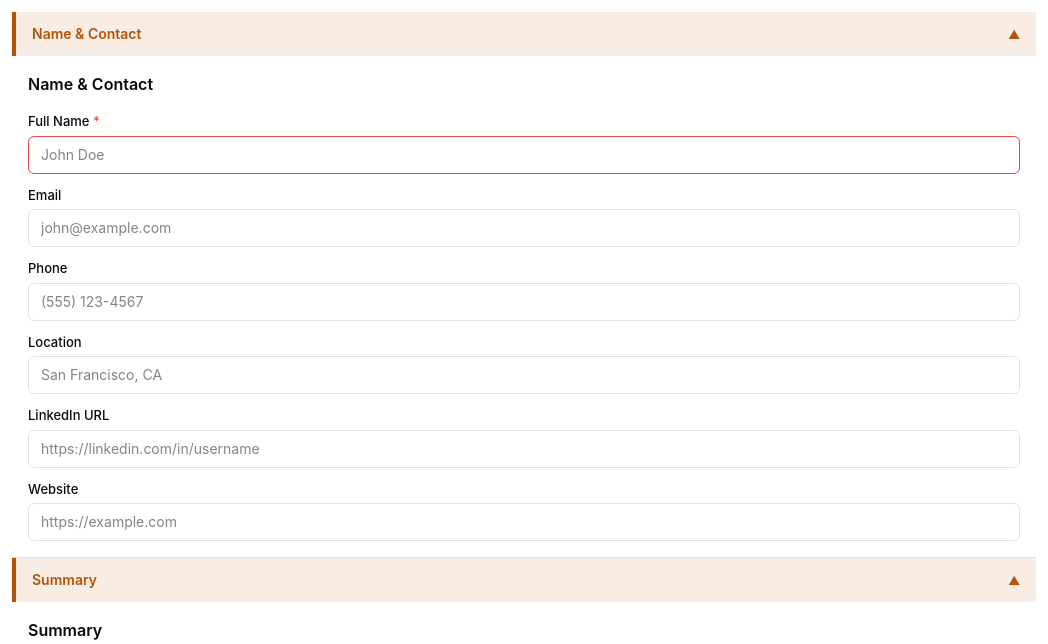
it: SectionEditor › collapse/expand › expands a collapsed section when header is clicked again
# Collapse first
Click the button "Name & Contact ▼" at (87, 34), box [12,12,1036,56]
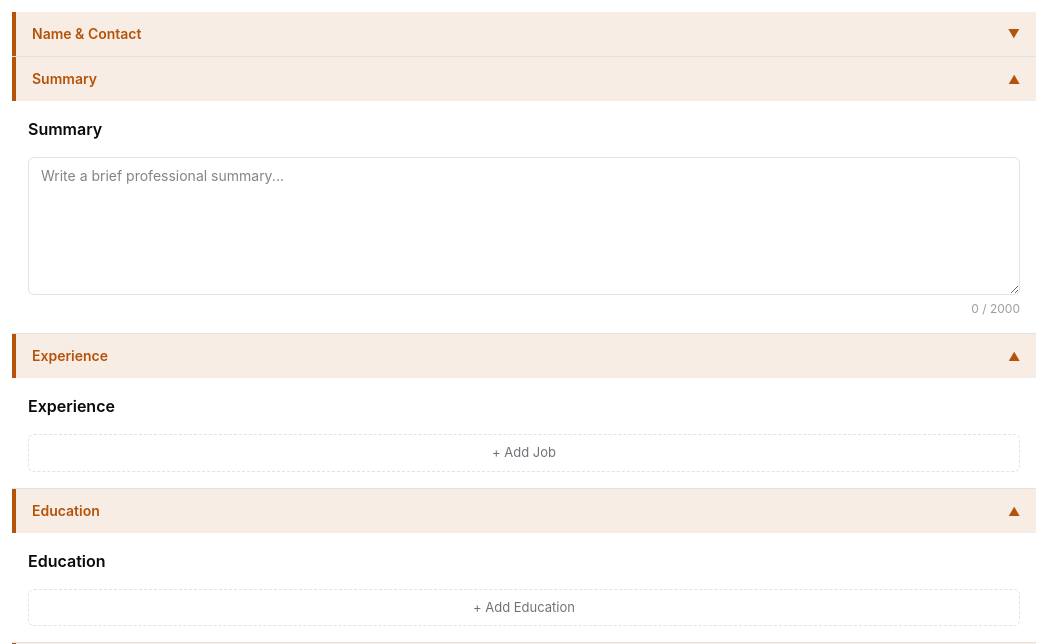
Expected: the button "Name & Contact ▼" is collapsed
# Expand again
Click the button "Name & Contact ▼" at (87, 34), box [12,12,1036,56]
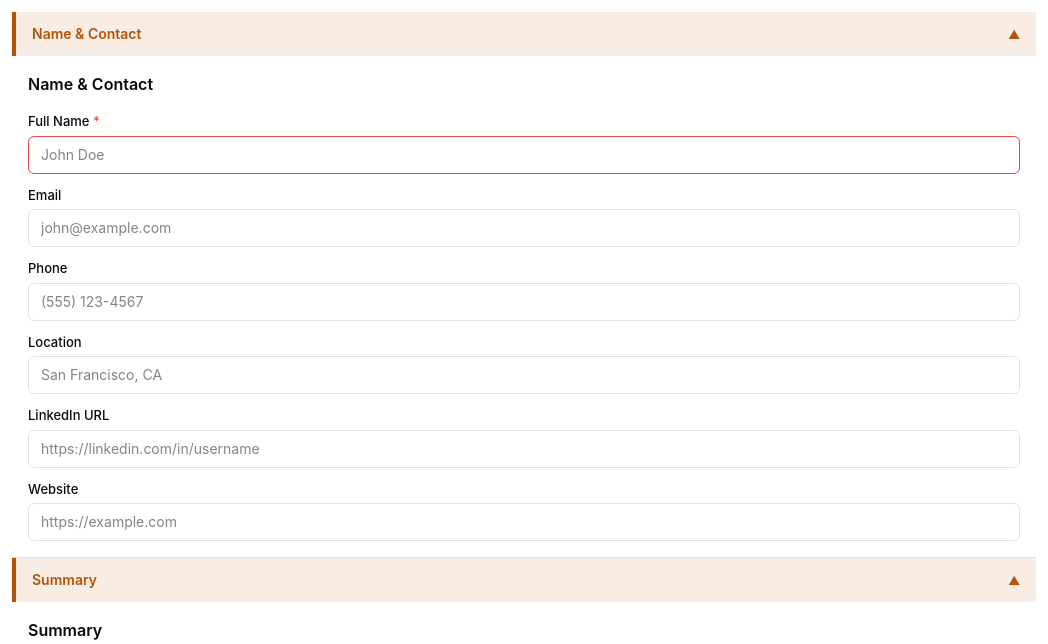
Expected: the button "Name & Contact ▼" is expanded, [12,12,1036,56]
